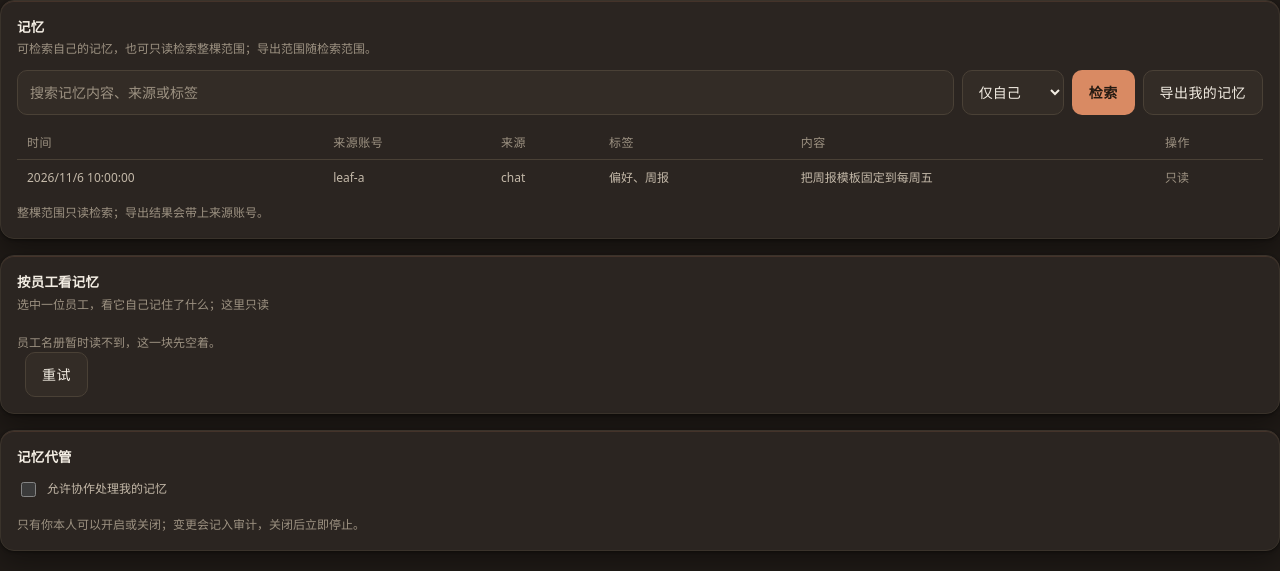
Test: 记忆页（真实端点） › 根账号可切到整棵范围，导出按钮随范围变化
Expected: the text "把周报模板固定到每周五" is shown, [791,160,1155,196]
Select "整棵范围" in the dropdown named "检索范围" at (1013, 93), box [962,70,1064,115]
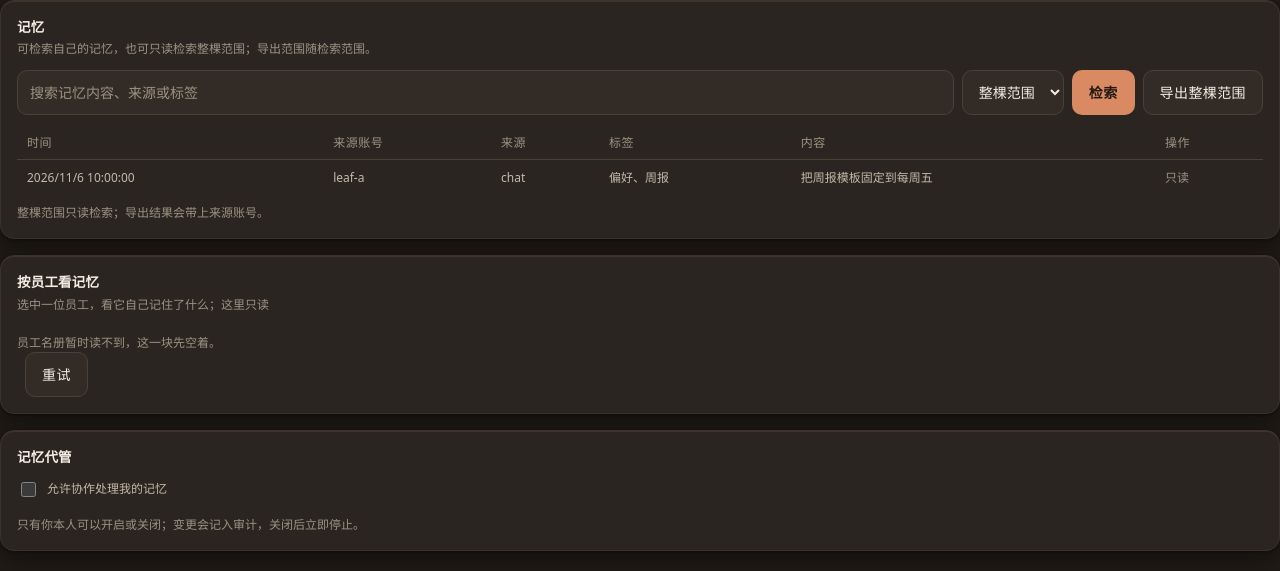
Expected: the button "导出整棵范围" is shown, [1143,70,1263,115]
